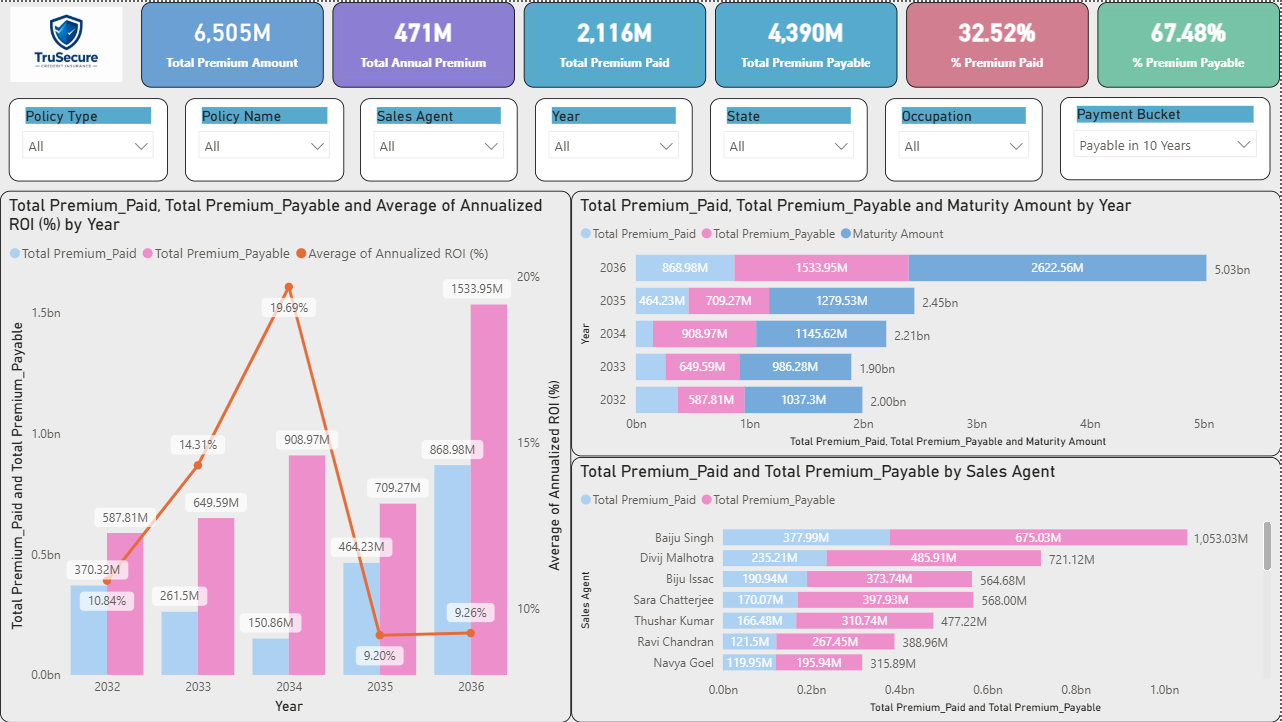

What the dashboard file says about the page in this screenshot:
{"tool":"powerbi","page":{"name":"Premium Analysis (5-20 Yrs)","canvas":[1280,720],"ordinal":4},"visuals":[{"type":"cardVisual","fields":{"Data":["Sum(FCT Insurance_Policy_Table.Total Annual Premium)"]},"box":[333.1,0,182.2,85.6],"z":0},{"type":"cardVisual","fields":{"Data":["Sum(FCT Insurance_Policy_Table.Total Premium Amount)"]},"box":[141.8,0,182.2,85.6],"z":1000},{"type":"cardVisual","fields":{"Data":["Sum(FCT Insurance_Policy_Table.Total Premium Paid)"]},"box":[524.4,0,182.2,85.6],"z":2000},{"type":"cardVisual","fields":{"Data":["Sum(FCT Insurance_Policy_Table.Total Premium Payable)"]},"box":[715.6,0,182.2,85.6],"z":3000},{"type":"cardVisual","fields":{"Data":["FCT Insurance_Policy_Table.% Premium Paid"]},"box":[906.9,0,182.2,85.6],"z":4000},{"type":"slicer","fields":{"Values":["DM Policy_Type.Policy Type"]},"box":[8.3,96.1,159,83.2],"z":5000},{"type":"slicer","fields":{"Values":["DM Policy_Protection_Plan.Policy Name"]},"box":[184.4,95.9,159,83.2],"z":6000},{"type":"slicer","fields":{"Values":["DM Insurance_Agent_Table.Sales Agent"]},"box":[360.6,95.9,157.7,83.2],"z":7000},{"type":"slicer","fields":{"Values":["FCT Insurance_Policy_Table.Start Date.Variation.Date Hierarchy.Year"]},"box":[535.5,95.9,157.7,83.2],"z":8000},{"type":"slicer","fields":{"Values":["DM Customer_Detail_Table.State"]},"box":[710.4,95.9,157.7,83.2],"z":9000},{"type":"slicer","fields":{"Values":["DM Customer_Detail_Table.Occupation"]},"box":[885.3,96.1,157.7,83.2],"z":10000},{"type":"image","box":[0,0,132.5,85],"z":11000},{"type":"cardVisual","fields":{"Data":["FCT Insurance_Policy_Table.% Premium Payable"]},"box":[1097.8,0,182.2,85.6],"z":12000},{"type":"lineClusteredColumnComboChart","fields":{"Category":["FCT Insurance_Policy_Table.Tenure Date.Variation.Date Hierarchy.Year","FCT Insurance_Policy_Table.Tenure Date.Variation.Date Hierarchy.Quarter","FCT Insurance_Policy_Table.Tenure Date.Variation.Date Hierarchy.Month","FCT Insurance_Policy_Table.Tenure Date.Variation.Date Hierarchy.Day"],"Y":["FCT Insurance_Policy_Table.Total Premium_Paid","FCT Insurance_Policy_Table.Total Premium_Payable"],"Y2":["Avg(FCT Insurance_Policy_Table.Annualized ROI (%))"]},"box":[0,188.3,571.1,531.9],"z":13000},{"type":"slicer","fields":{"Values":["FCT Insurance_Policy_Table.Payment Bucket"]},"box":[1060.2,95.4,210.3,83.2],"z":14000},{"type":"barChart","fields":{"Y":["FCT Insurance_Policy_Table.Total Premium_Paid","FCT Insurance_Policy_Table.Total Premium_Payable"],"Category":["DM Insurance_Agent_Table.Sales Agent"]},"box":[571.1,454.9,709.2,265.4],"z":15000},{"type":"barChart","fields":{"Category":["FCT Insurance_Policy_Table.Tenure Date.Variation.Date Hierarchy.Year","FCT Insurance_Policy_Table.Tenure Date.Variation.Date Hierarchy.Quarter","FCT Insurance_Policy_Table.Tenure Date.Variation.Date Hierarchy.Month","FCT Insurance_Policy_Table.Tenure Date.Variation.Date Hierarchy.Day"],"Y":["FCT Insurance_Policy_Table.Total Premium_Paid","FCT Insurance_Policy_Table.Total Premium_Payable","Sum(FCT Insurance_Policy_Table.Maturity Amount)"]},"box":[571.1,188.3,709.2,265.4],"z":16000}]}

Visuals, with their boxes in screenshot pixels (x1, y1, x2, y2), scaled from the page's 1280x720 canvas onto the 1282x722 screenshot:
cardVisual - Sum(FCT Insurance_Policy_Table.Total Annual Premium): select_region(334, 0, 516, 86)
cardVisual - Sum(FCT Insurance_Policy_Table.Total Premium Amount): select_region(142, 0, 325, 86)
cardVisual - Sum(FCT Insurance_Policy_Table.Total Premium Paid): select_region(525, 0, 708, 86)
cardVisual - Sum(FCT Insurance_Policy_Table.Total Premium Payable): select_region(717, 0, 899, 86)
cardVisual - FCT Insurance_Policy_Table.% Premium Paid: select_region(908, 0, 1091, 86)
slicer - DM Policy_Type.Policy Type: select_region(8, 96, 168, 180)
slicer - DM Policy_Protection_Plan.Policy Name: select_region(185, 96, 344, 180)
slicer - DM Insurance_Agent_Table.Sales Agent: select_region(361, 96, 519, 180)
slicer - FCT Insurance_Policy_Table.Start Date.Variation.Date Hierarchy.Year: select_region(536, 96, 694, 180)
slicer - DM Customer_Detail_Table.State: select_region(712, 96, 869, 180)
slicer - DM Customer_Detail_Table.Occupation: select_region(887, 96, 1045, 180)
image: select_region(0, 0, 133, 85)
cardVisual - FCT Insurance_Policy_Table.% Premium Payable: select_region(1100, 0, 1281, 86)
lineClusteredColumnComboChart - FCT Insurance_Policy_Table.Tenure Date.Variation.Date Hierarchy.Year x FCT Insurance_Policy_Table.Tenure Date.Variation.Date Hierarchy.Quarter: select_region(0, 189, 572, 721)
slicer - FCT Insurance_Policy_Table.Payment Bucket: select_region(1062, 96, 1272, 179)
barChart - FCT Insurance_Policy_Table.Total Premium_Paid x FCT Insurance_Policy_Table.Total Premium_Payable: select_region(572, 456, 1281, 721)
barChart - FCT Insurance_Policy_Table.Tenure Date.Variation.Date Hierarchy.Year x FCT Insurance_Policy_Table.Tenure Date.Variation.Date Hierarchy.Quarter: select_region(572, 189, 1281, 455)
